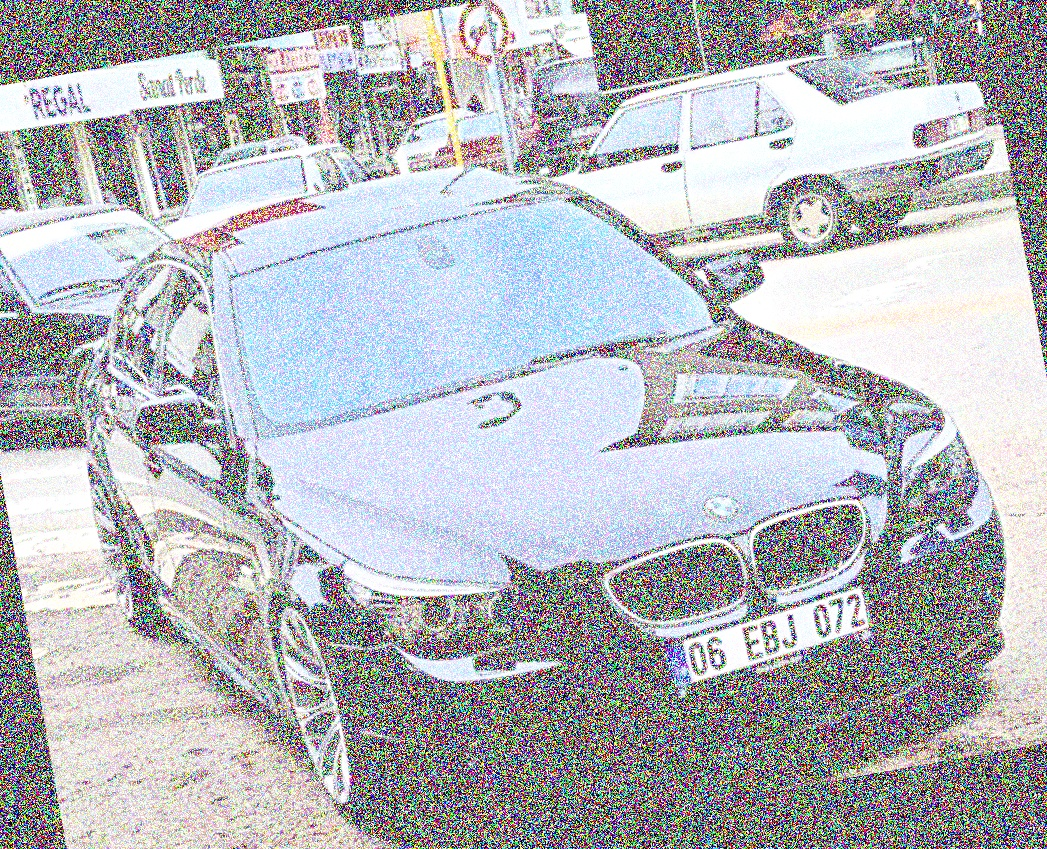plaka: (683, 578, 875, 696)
